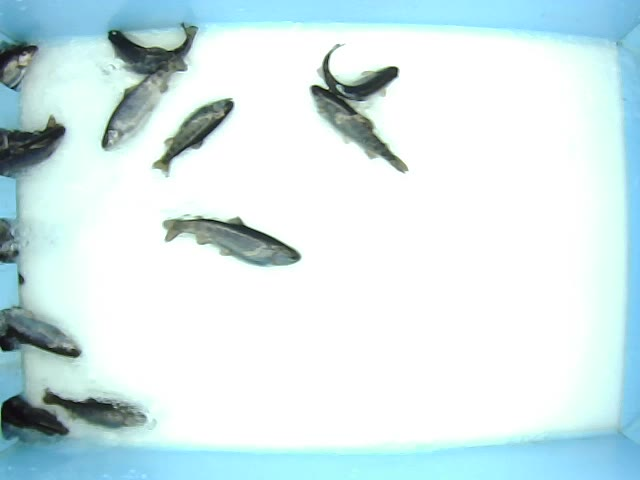fish: (309, 83, 410, 174), (98, 54, 189, 155), (162, 213, 303, 267), (150, 95, 235, 180), (106, 21, 200, 76), (316, 41, 401, 101), (40, 388, 150, 432)
